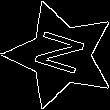N_E: (29, 28, 93, 82)
